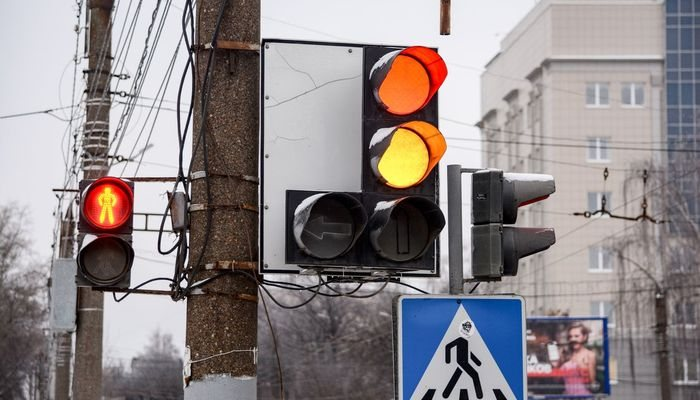tl: (288, 41, 439, 272), (468, 168, 553, 277), (80, 181, 131, 290)
